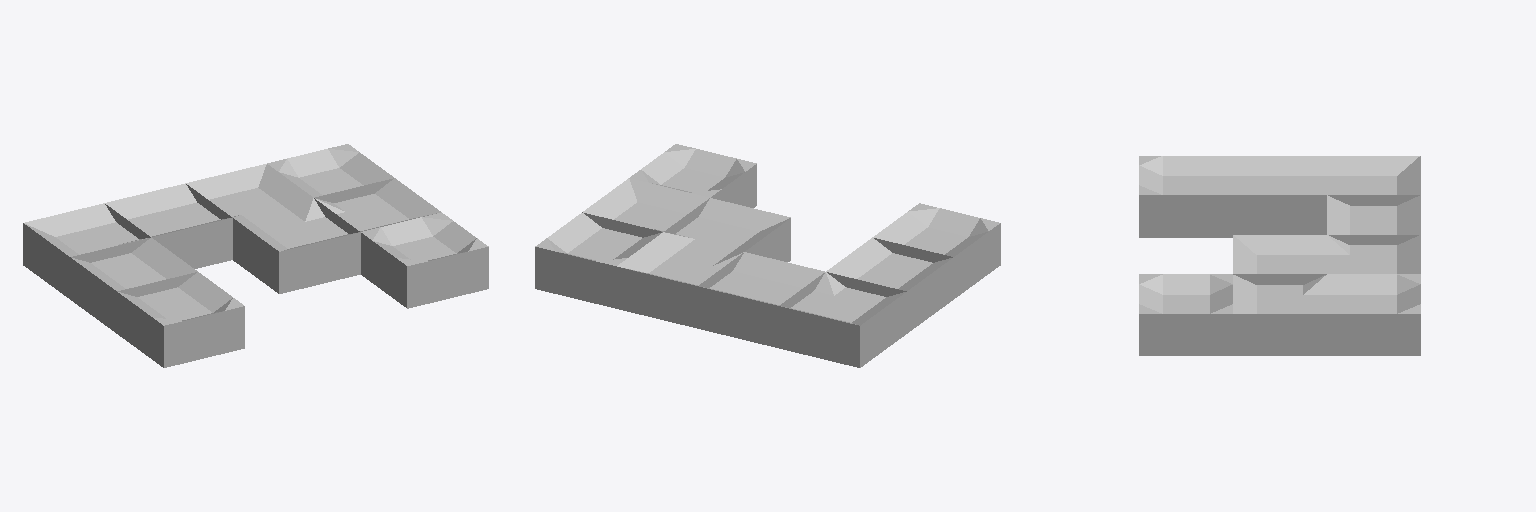
File: 3f_path.obj
3 renders of one model, left to right at view 1: azimuth 30°, elevation 25°; view 2: azimuth 150°, elevation 25°; view 3: azimuth 270°, elevation 25°, orthographic.
Visible parts, largest first — view 1: foil.hole.3.2_Cube.157, foil.corner.2.3_corner.783, foil.ending.0.2_ending.311, foil.through.1.4_through.151, foil.through.0.3_through.150, foil.corner.0.4_corner.782, foil.corner.2.4_corner.784, foil.corner.3.3_corner.785, foil.ending.3.4_ending.312; view 2: foil.corner.0.4_corner.782, foil.through.1.4_through.151, foil.corner.2.4_corner.784, foil.ending.3.4_ending.312, foil.through.0.3_through.150, foil.ending.0.2_ending.311, foil.corner.2.3_corner.783, foil.hole.3.2_Cube.157, foil.corner.3.3_corner.785; view 3: foil.ending.0.2_ending.311, foil.hole.3.2_Cube.157, foil.ending.3.4_ending.312, foil.through.0.3_through.150, foil.corner.3.3_corner.785, foil.corner.2.3_corner.783, foil.through.1.4_through.151, foil.corner.0.4_corner.782, foil.corner.2.4_corner.784.
Boxes of the visible parts, x1=… form: foil.hole.3.2_Cube.157: x1=361, y1=212, x2=488, y2=308; foil.corner.2.3_corner.783: x1=233, y1=198, x2=360, y2=293; foil.ending.0.2_ending.311: x1=117, y1=272, x2=244, y2=367; foil.through.1.4_through.151: x1=105, y1=183, x2=232, y2=268; foil.through.0.3_through.150: x1=70, y1=237, x2=197, y2=333; foil.corner.0.4_corner.782: x1=23, y1=203, x2=148, y2=298; foil.corner.2.4_corner.784: x1=186, y1=164, x2=312, y2=222; foil.corner.3.3_corner.785: x1=315, y1=178, x2=440, y2=231; foil.ending.3.4_ending.312: x1=267, y1=144, x2=393, y2=197; foil.corner.0.4_corner.782: x1=779, y1=272, x2=906, y2=367; foil.through.1.4_through.151: x1=698, y1=252, x2=824, y2=347; foil.corner.2.4_corner.784: x1=617, y1=232, x2=743, y2=328; foil.ending.3.4_ending.312: x1=535, y1=213, x2=662, y2=308; foil.through.0.3_through.150: x1=826, y1=237, x2=953, y2=333; foil.ending.0.2_ending.311: x1=873, y1=203, x2=1000, y2=298; foil.corner.2.3_corner.783: x1=664, y1=198, x2=790, y2=261; foil.hole.3.2_Cube.157: x1=630, y1=144, x2=756, y2=207; foil.corner.3.3_corner.785: x1=582, y1=178, x2=708, y2=237; foil.ending.0.2_ending.311: x1=1139, y1=156, x2=1232, y2=237; foil.hole.3.2_Cube.157: x1=1139, y1=274, x2=1232, y2=355; foil.ending.3.4_ending.312: x1=1327, y1=274, x2=1420, y2=355; foil.through.0.3_through.150: x1=1233, y1=156, x2=1326, y2=234; foil.corner.3.3_corner.785: x1=1233, y1=275, x2=1326, y2=355; foil.corner.2.3_corner.783: x1=1233, y1=235, x2=1326, y2=284; foil.through.1.4_through.151: x1=1327, y1=195, x2=1420, y2=244; foil.corner.0.4_corner.782: x1=1327, y1=156, x2=1420, y2=194; foil.corner.2.4_corner.784: x1=1327, y1=235, x2=1420, y2=273.
Size of the model in its own units: 8 by 1 by 6.